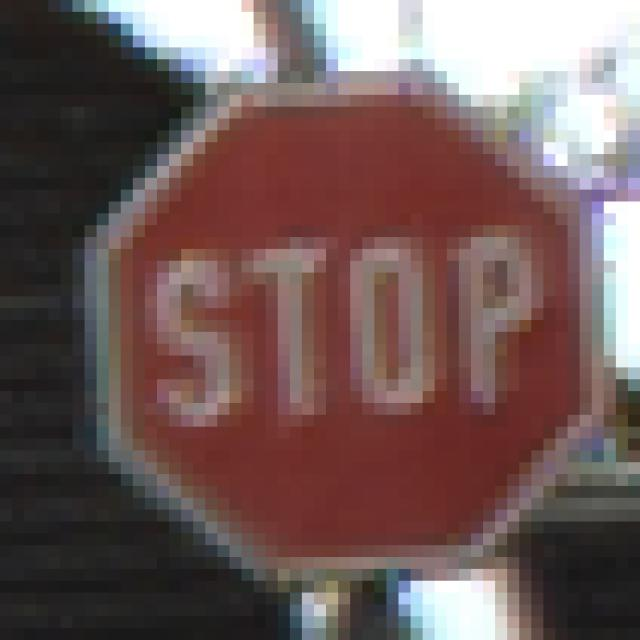STOP: (74, 72, 569, 570)
